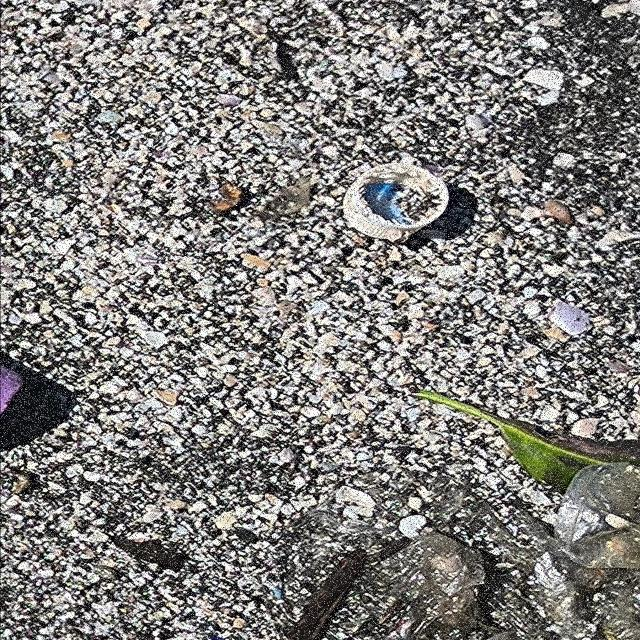plastic_waste: (343, 163, 444, 242)
